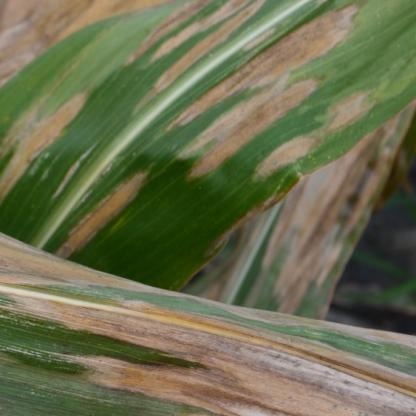Corn leaf blight: (0, 0, 414, 250), (0, 238, 416, 415)
